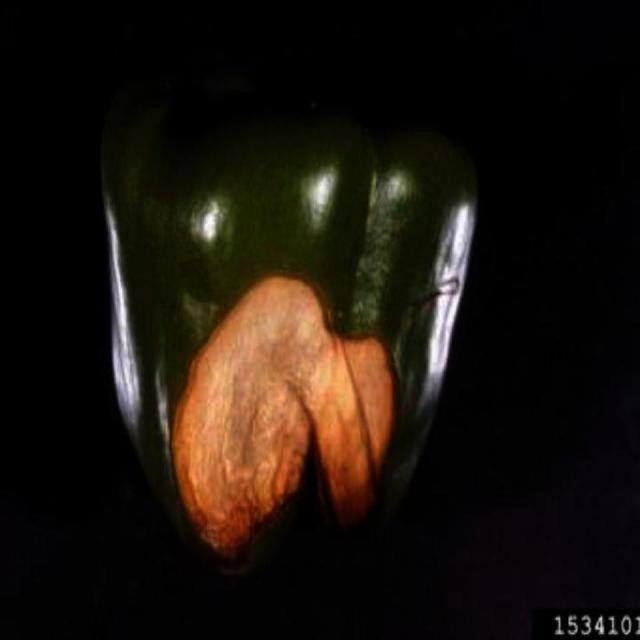Sunscald Fruit: (112, 180, 266, 365)
